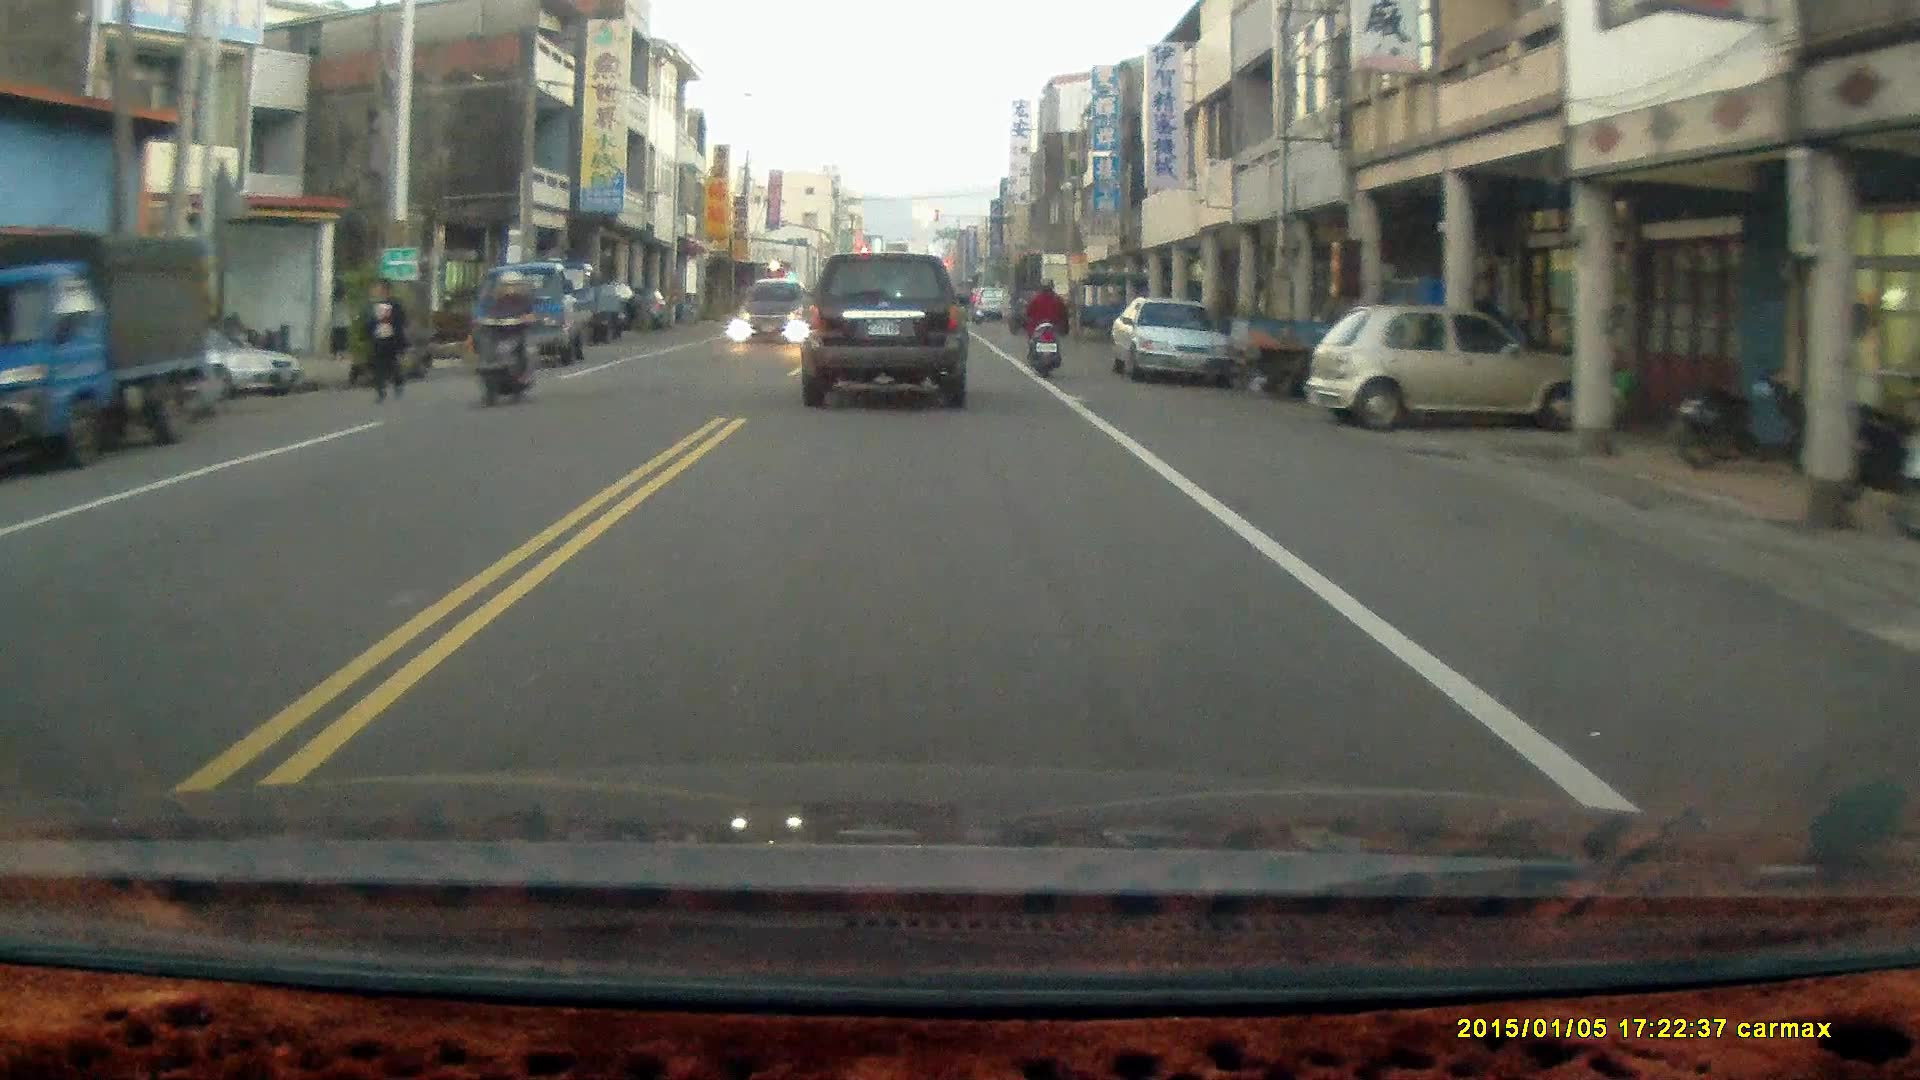pedestrian: (355, 273, 409, 408)
rider: (471, 265, 536, 411), (1024, 274, 1065, 375)
vehicle: (1, 229, 231, 477), (1310, 306, 1595, 432), (795, 250, 972, 413), (473, 265, 617, 370), (141, 317, 298, 400), (1112, 301, 1239, 386), (737, 278, 810, 346)
